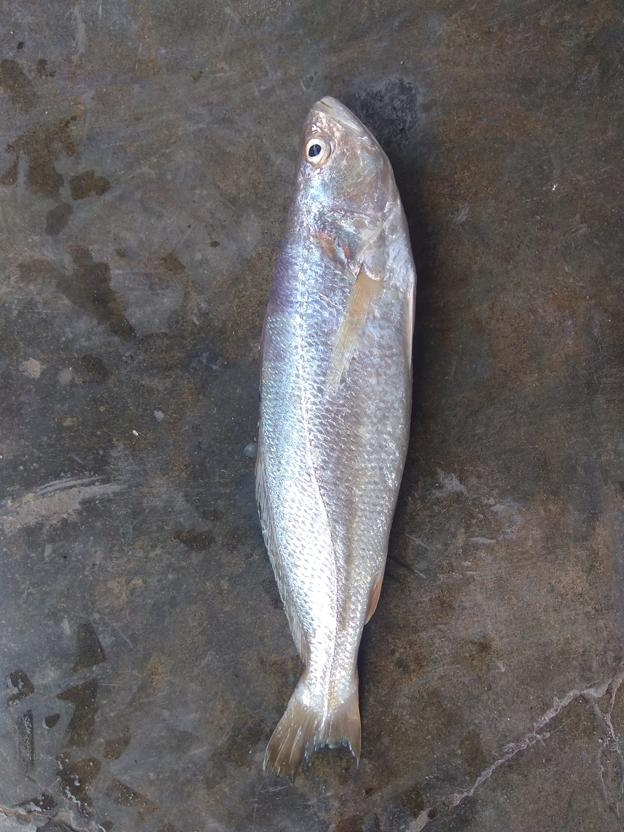Fish head: (293, 96, 408, 224)
Fish tail: (263, 665, 361, 778)
